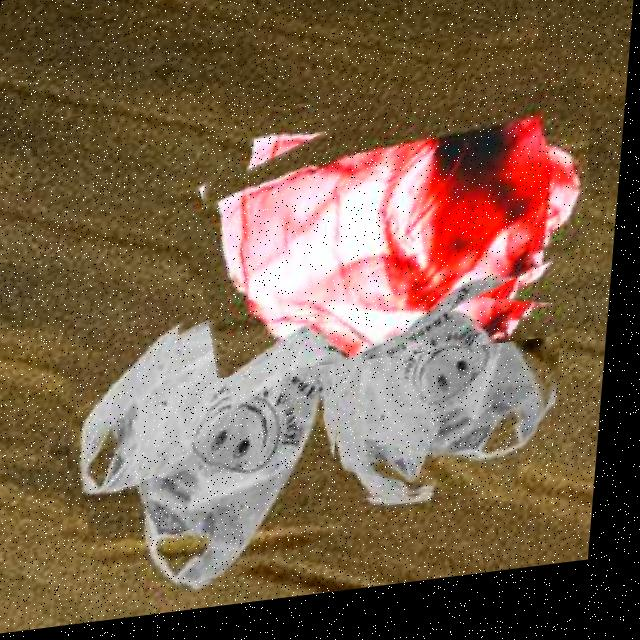litter: (173, 50, 599, 389), (63, 284, 353, 617), (298, 276, 572, 524)
